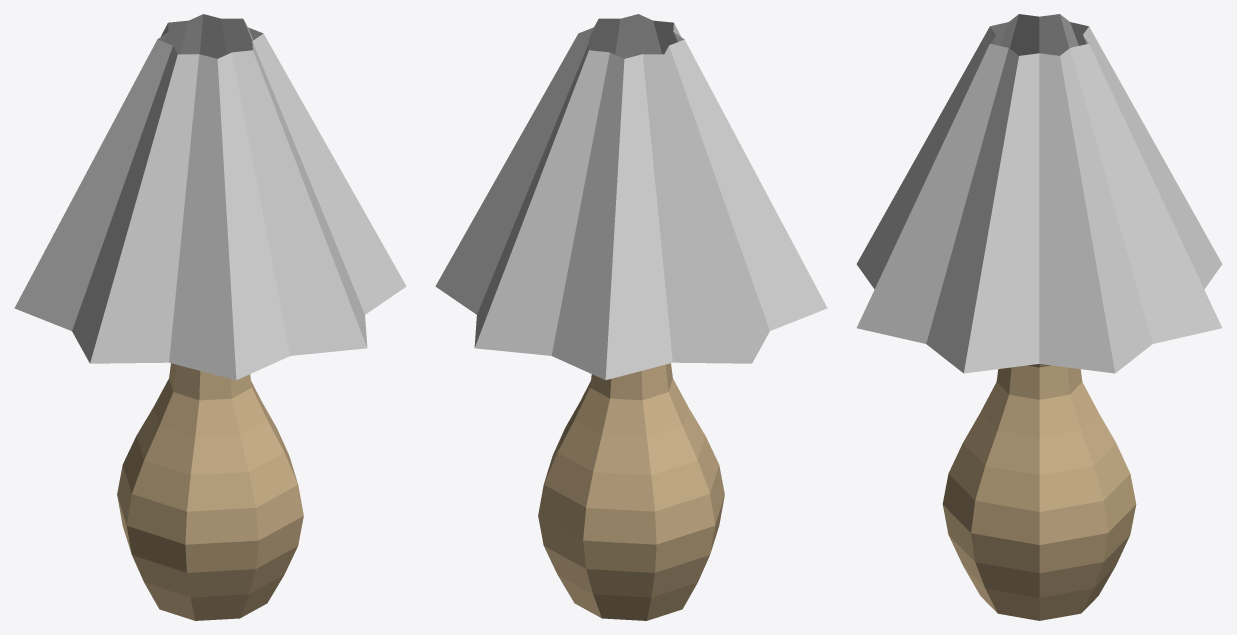
Rendered from bedside_light_1.glb.
3 renders of one model, left to right at view 1: azimuth 30°, elevation 25°; view 2: azimuth 150°, elevation 25°; view 3: azimuth 270°, elevation 25°, orthographic.
Parts seen in each view (by area): view 1: Cylinder.001; view 2: Cylinder.001; view 3: Cylinder.001.
Part boxes in pixels (<box>): Cylinder.001: <box>14,14,406,620</box>; Cylinder.001: <box>435,14,827,620</box>; Cylinder.001: <box>856,14,1222,620</box>.
Size of the model in its own units: 1.25 by 2.12 by 1.25.
